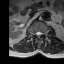CCS_normal: (37, 29, 39, 40)
LFS_stenosis: (42, 30, 44, 37)
LLS_normal: (39, 30, 42, 37)
RFS_stenosis: (33, 30, 35, 37)
RLS_normal: (35, 30, 37, 37)
